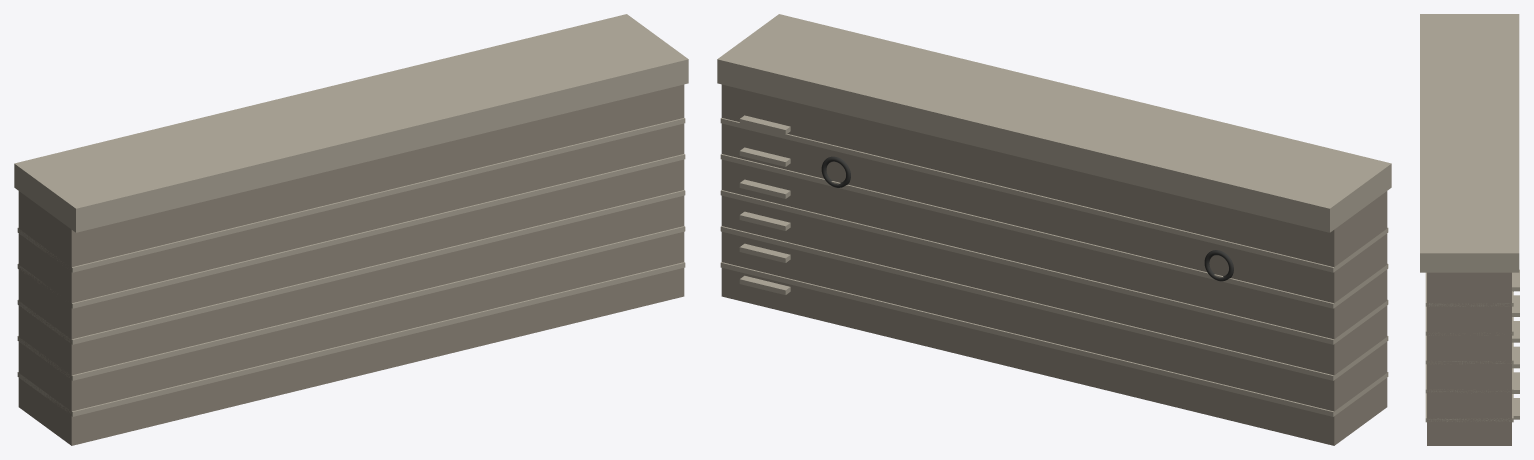
The model's file is b05-quay-wall-stone.glb.
3 views of the same model, side by side, from view 1: azimuth 30°, elevation 25°; view 2: azimuth 150°, elevation 25°; view 3: azimuth 270°, elevation 25° (orthographic). The views are drawn at different scales.
Visible parts, largest first — view 1: part0, part6, part3, part1, part2, part5, part4; view 2: part0, part6, part3, part2, part1, part5, part4; view 3: part6, part0, part1, part5, part3, part2, part12, part14, part15, part13, part11, part10 (+1 smaller).
Boxes of the visible parts, left/top/right/bottom form: part0: left=18, top=84, right=684, bottom=445; part6: left=14, top=14, right=688, bottom=232; part3: left=17, top=190, right=685, bottom=344; part1: left=17, top=262, right=685, bottom=416; part2: left=17, top=226, right=685, bottom=380; part5: left=17, top=118, right=685, bottom=272; part4: left=17, top=154, right=685, bottom=308; part0: left=721, top=84, right=1387, bottom=445; part6: left=717, top=14, right=1391, bottom=232; part3: left=720, top=190, right=1388, bottom=344; part2: left=720, top=226, right=1388, bottom=380; part1: left=720, top=262, right=1388, bottom=416; part5: left=720, top=118, right=1388, bottom=272; part4: left=720, top=154, right=1388, bottom=308; part6: left=1420, top=14, right=1519, bottom=272; part0: left=1427, top=272, right=1511, bottom=445; part1: left=1425, top=393, right=1513, bottom=422; part5: left=1425, top=272, right=1513, bottom=306; part3: left=1425, top=335, right=1513, bottom=364; part2: left=1425, top=364, right=1513, bottom=393; part12: left=1512, top=346, right=1519, bottom=368; part14: left=1512, top=295, right=1519, bottom=316; part15: left=1512, top=269, right=1519, bottom=291; part13: left=1512, top=321, right=1519, bottom=342; part11: left=1512, top=372, right=1519, bottom=393; part10: left=1513, top=398, right=1519, bottom=419.
Bounding box in the file's own units: 8000 × 3000 × 1410.
